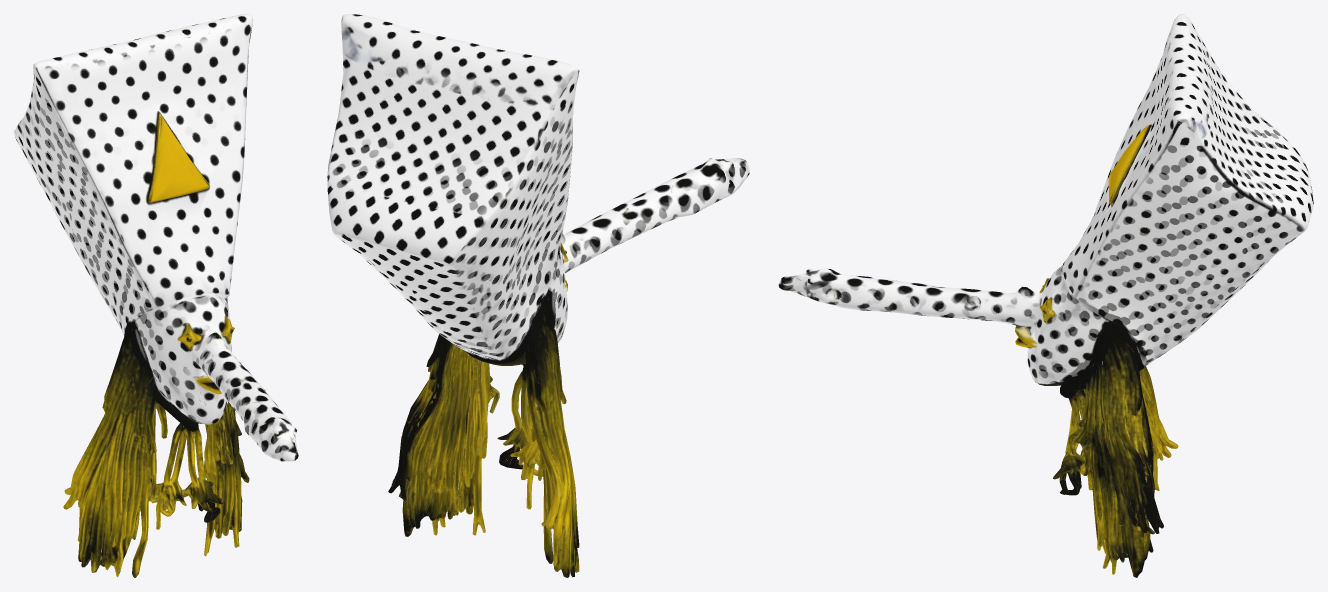
The model's file is guitar.glb.
3 renders of one model, left to right at view 1: azimuth 30°, elevation 25°; view 2: azimuth 150°, elevation 25°; view 3: azimuth 270°, elevation 25°, orthographic. The views are drawn at different scales.
Parts seen in each view (by area): view 1: Mesh1.0; view 2: Mesh1.0; view 3: Mesh1.0.
Part boxes in pixels (x1,y1,x2,y2): Mesh1.0: (14,14,298,577); Mesh1.0: (327,14,749,577); Mesh1.0: (778,14,1313,577).
Bounding box in the file's own units: 0.8661 × 1.91 × 1.91.
1 material, 1 textured.
